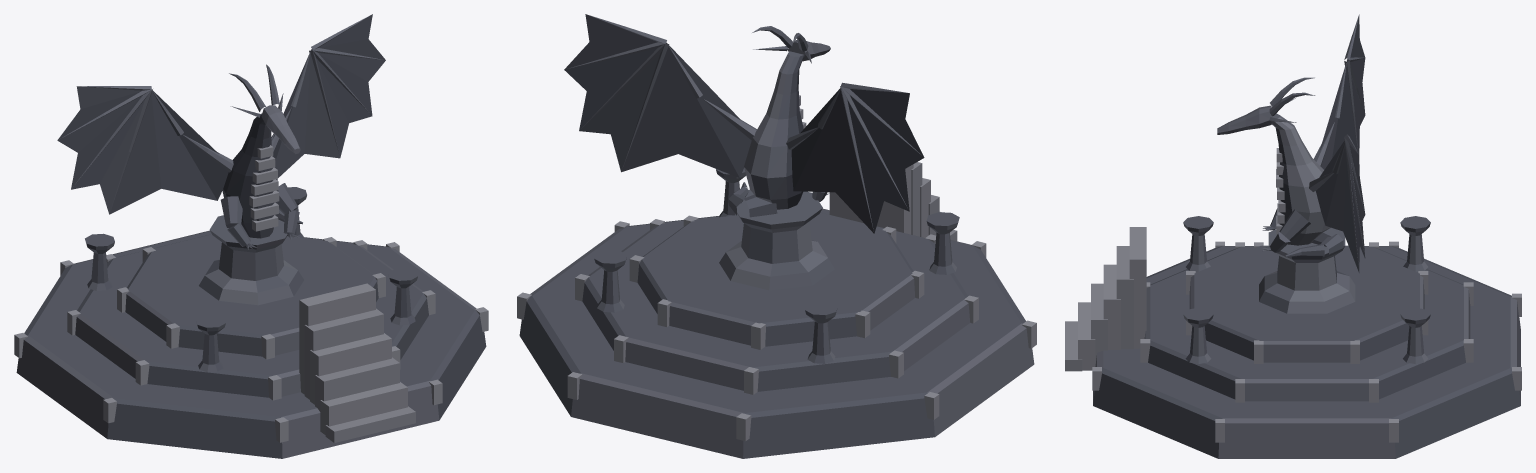
The model's file is altar3.glb.
The picture shows the model from 3 angles, left to right: view 1: azimuth 30°, elevation 25°; view 2: azimuth 150°, elevation 25°; view 3: azimuth 270°, elevation 25°; orthographic projection. The views are drawn at different scales.
Parts seen in each view (by area): view 1: altar3; view 2: altar3; view 3: altar3.
Part boxes in pixels (left/top/right/bottom): altar3: left=14, top=14, right=488, bottom=458; altar3: left=517, top=14, right=1036, bottom=458; altar3: left=1065, top=14, right=1521, bottom=458.
Bounding box in the file's own units: 13.99 × 10.2 × 14.88.
Materials: 1 (1 with a texture image).
